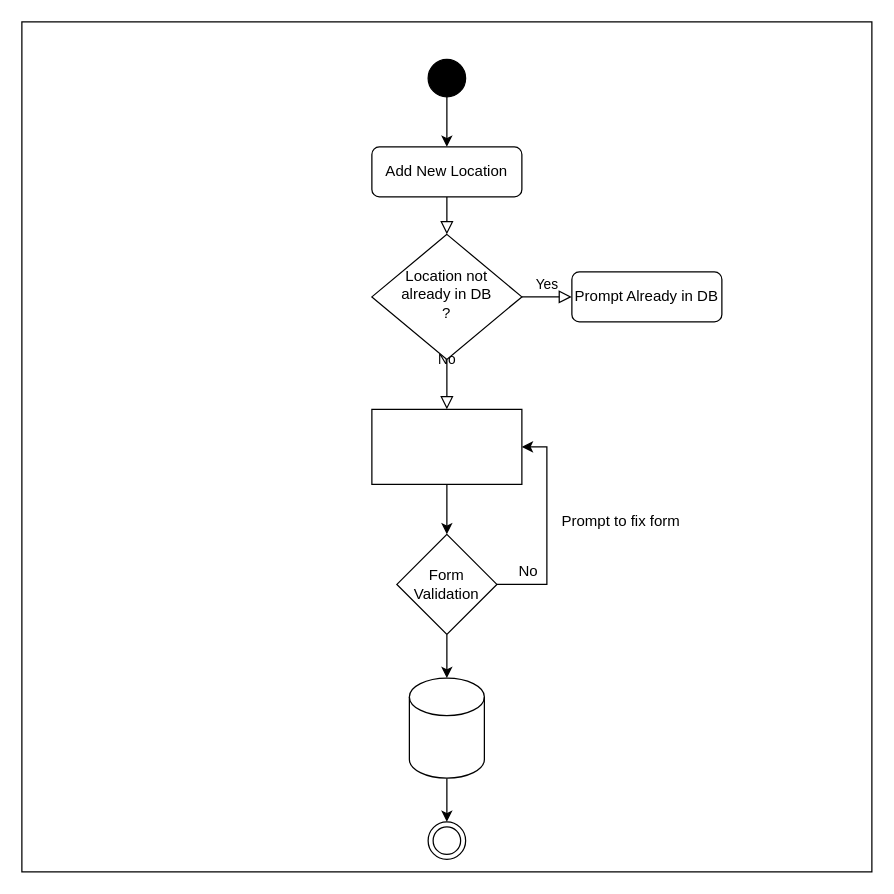
This 894x894 diagram has some shape labels left out. The box of each missing label's shape, as (x1, y1, x2, y2) in pixels:
add to DB Table: (408, 677, 484, 778)
Display new Location Form: (371, 408, 522, 484)
